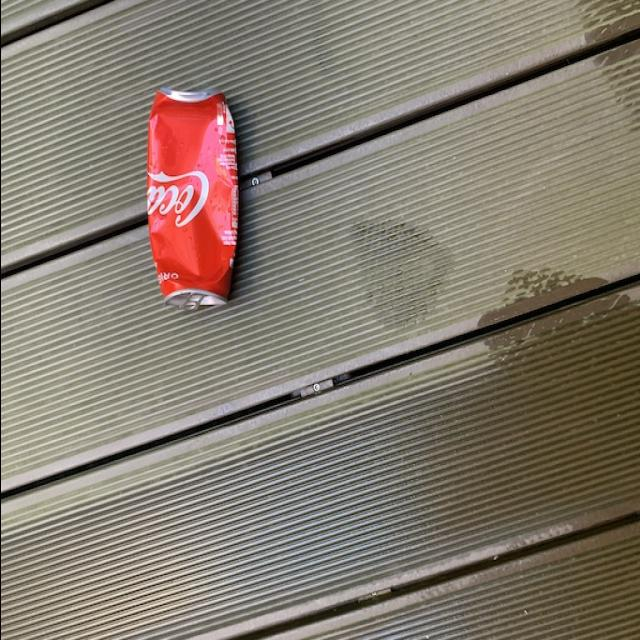litter: (141, 79, 241, 318)
